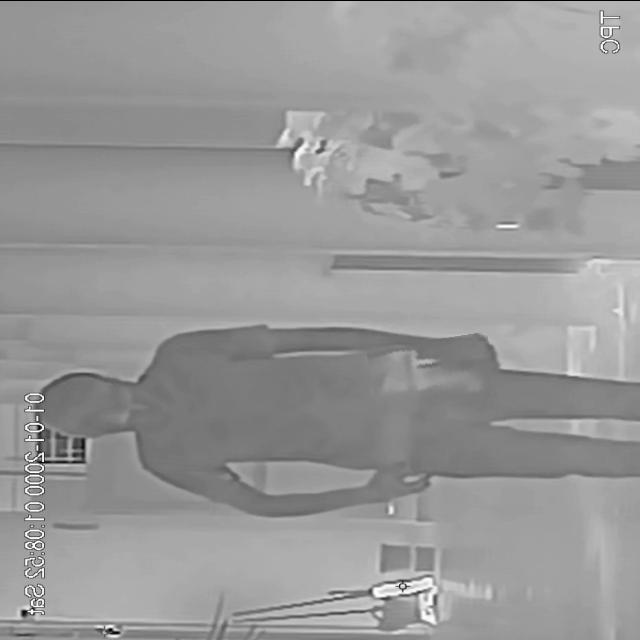Weapon: (369, 334, 495, 410)
